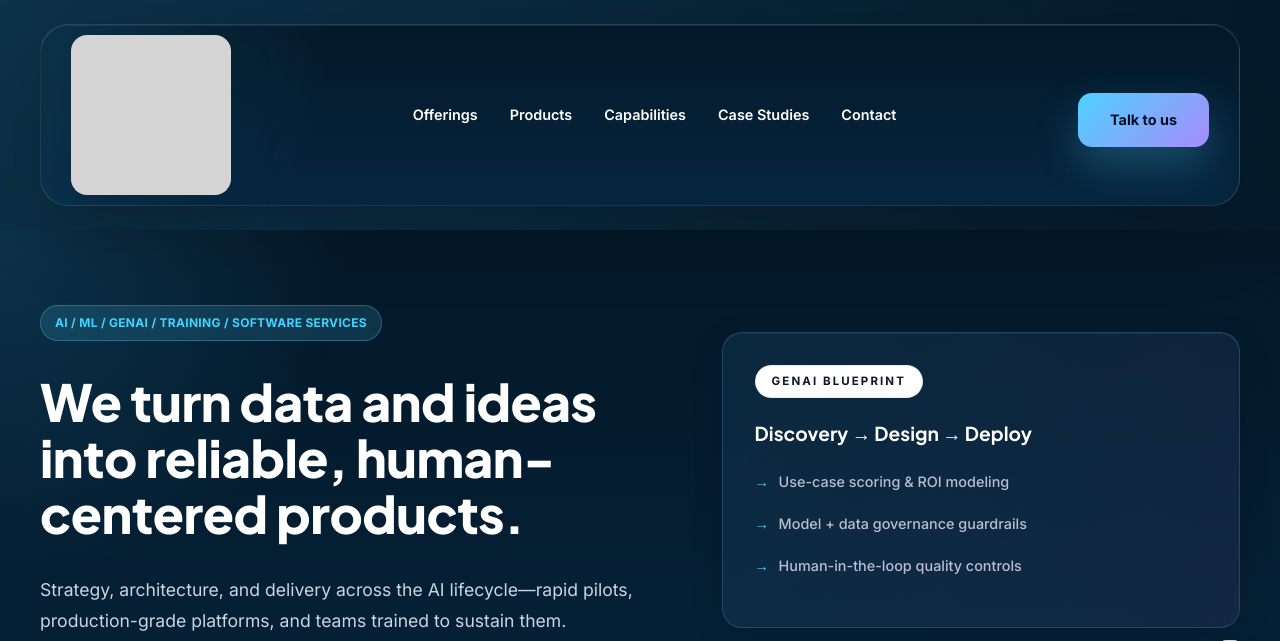
Test: Home › opens Career Counselling from the navbar
Click the button "Talk to us" at (1144, 120), box [1078, 93, 1209, 147]
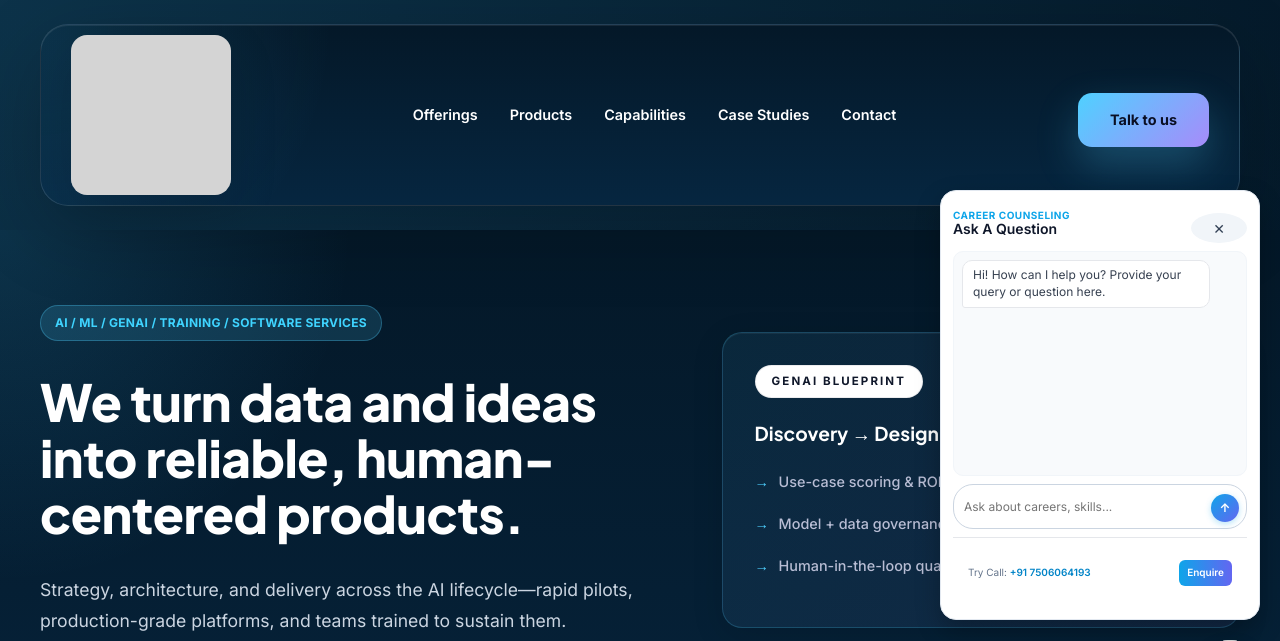
Expected: the heading "CAREER COUNSELING" is shown, [953, 209, 1070, 221]
Expected: the heading "Ask A Question" is shown, [953, 221, 1070, 237]
